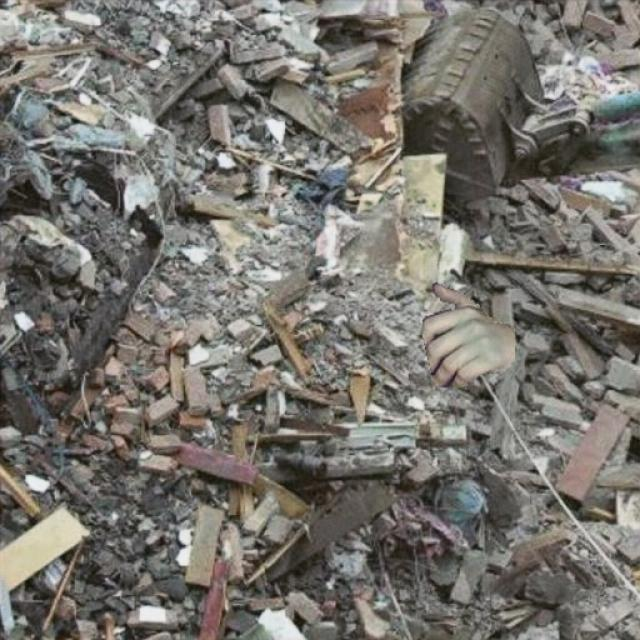Person in Rubble: (422, 283, 514, 387)
